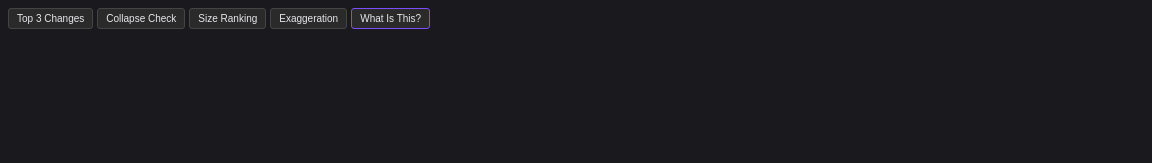
VectorCopilotPanel › shows session notes after running analysis
Click the button "Collapse Check".
click(141, 18)  # box [97,8,185,29]
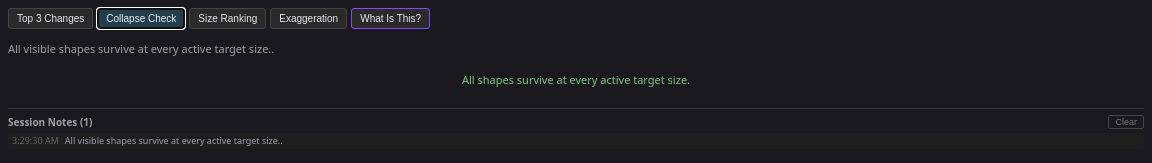
Check: the text "Session Notes (1)" is shown, box [8,115,92,129]
